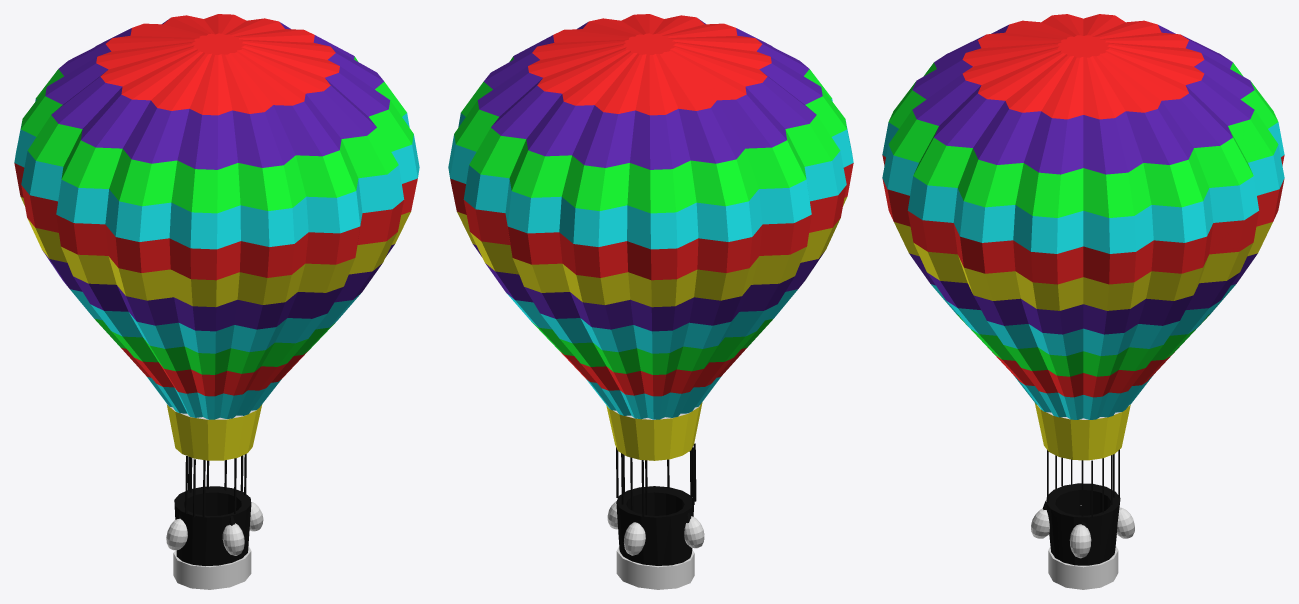
Rendered from balloon.obj.
The picture shows the model from 3 angles, left to right: view 1: azimuth 30°, elevation 25°; view 2: azimuth 150°, elevation 25°; view 3: azimuth 270°, elevation 25°; orthographic projection.
Parts seen in each view (by area): view 1: Layer_ball011, Cylinder002, Sphere005, Sphere006; view 2: Layer_ball011, Cylinder002, Sphere008; view 3: Layer_ball011, Cylinder002, Sphere007.
Boxes of the visible parts, box(x1,y1,x2,y2) form: Layer_ball011: box(14, 14, 419, 566); Cylinder002: box(173, 546, 251, 589); Sphere005: box(222, 523, 244, 555); Sphere006: box(166, 518, 187, 550); Layer_ball011: box(448, 14, 853, 565); Cylinder002: box(616, 546, 694, 589); Sphere008: box(624, 522, 645, 555); Layer_ball011: box(882, 14, 1284, 565); Cylinder002: box(1048, 545, 1118, 589); Sphere007: box(1069, 524, 1091, 558).
Size of the model in its own units: 487 by 708 by 487.
